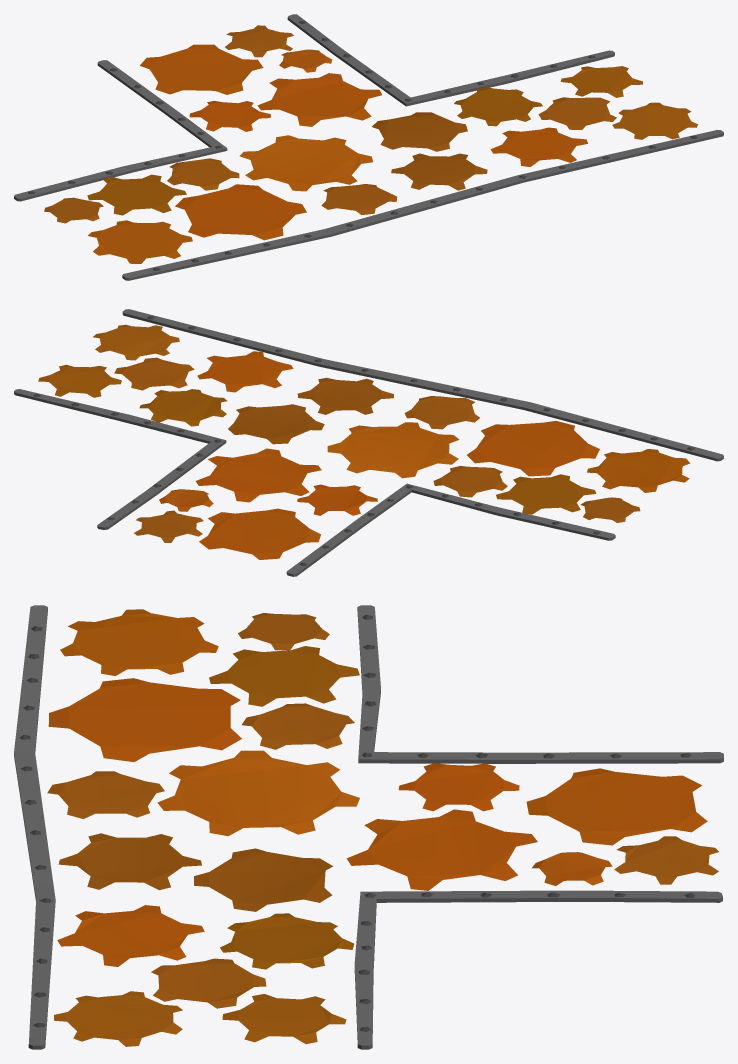
File: Road T.glb
3 renders of one model, top to bottom at view 1: azimuth 30°, elevation 25°; view 2: azimuth 150°, elevation 25°; view 3: azimuth 270°, elevation 25°, orthographic. The views are drawn at different scales.
Visible parts, largest first — view 1: RoadT; view 2: RoadT; view 3: RoadT.
Part boxes in pixels (x1,y1,x2,y2): RoadT: [14, 14, 723, 280]; RoadT: [14, 309, 723, 576]; RoadT: [14, 605, 723, 1049].
Size of what is drawn, in the model's own units: 6 by 0.0402 by 4.09.
Materials: 1 (1 with a texture image).
